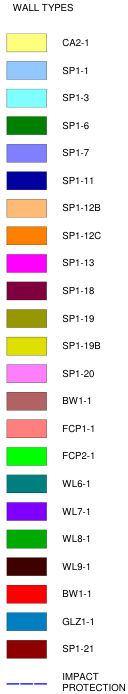hatch: (4, 114, 49, 137), (4, 197, 49, 220), (5, 170, 49, 192), (5, 224, 48, 246), (6, 32, 49, 53), (5, 143, 48, 164), (6, 253, 48, 274), (6, 446, 48, 467), (6, 639, 47, 660), (5, 281, 48, 301), (5, 60, 47, 80), (6, 88, 48, 108), (5, 418, 47, 438), (6, 501, 48, 521), (4, 337, 48, 356), (5, 392, 49, 411), (6, 473, 47, 493), (6, 364, 48, 383), (6, 309, 47, 328), (6, 529, 47, 548), (6, 557, 47, 576), (6, 612, 47, 631), (6, 585, 47, 603), (6, 681, 51, 687)
label: (61, 670, 127, 693), (59, 230, 104, 242), (60, 202, 103, 214), (60, 422, 98, 435), (61, 394, 97, 407), (58, 643, 97, 655), (59, 36, 92, 50), (60, 257, 97, 269), (60, 284, 97, 296), (60, 533, 96, 545), (61, 340, 102, 350), (61, 312, 95, 324), (61, 616, 97, 627), (61, 449, 95, 460), (60, 175, 96, 185), (61, 120, 93, 131), (61, 561, 93, 572), (61, 506, 90, 518), (61, 588, 92, 599), (61, 147, 91, 158), (60, 478, 90, 489), (60, 93, 92, 103), (61, 65, 90, 76), (63, 369, 96, 378)
